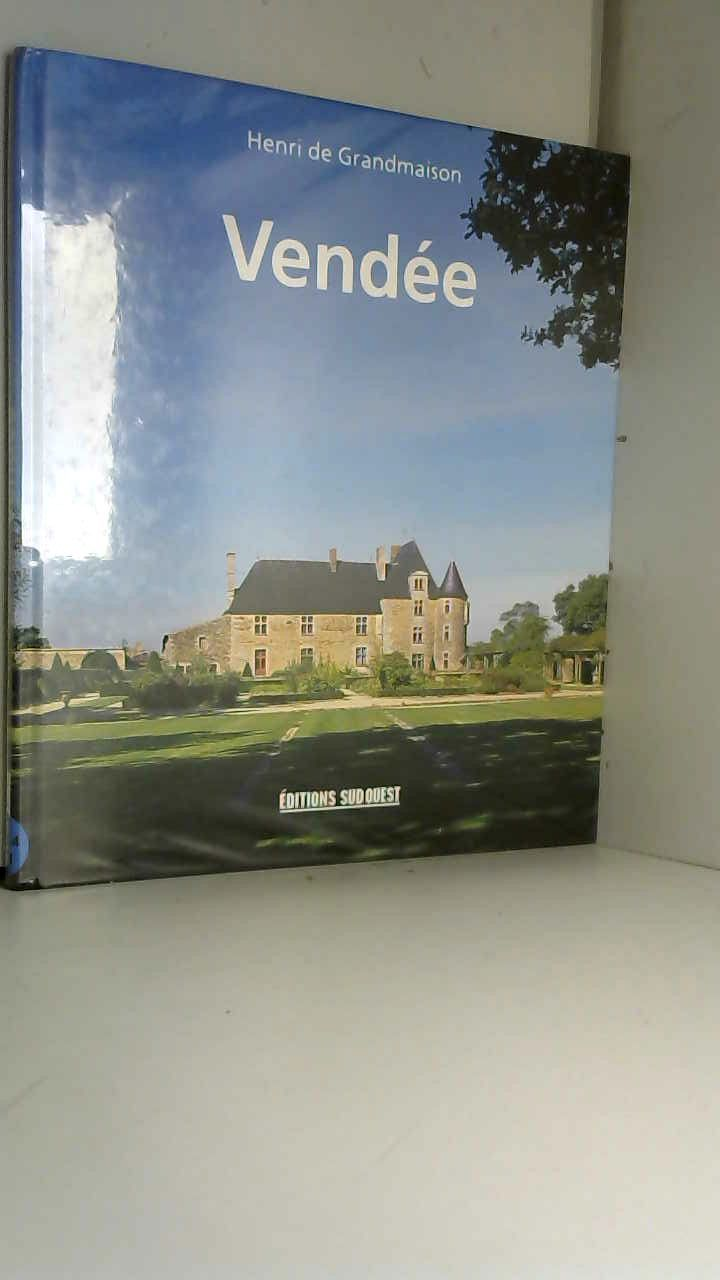book: (0, 32, 650, 910)
